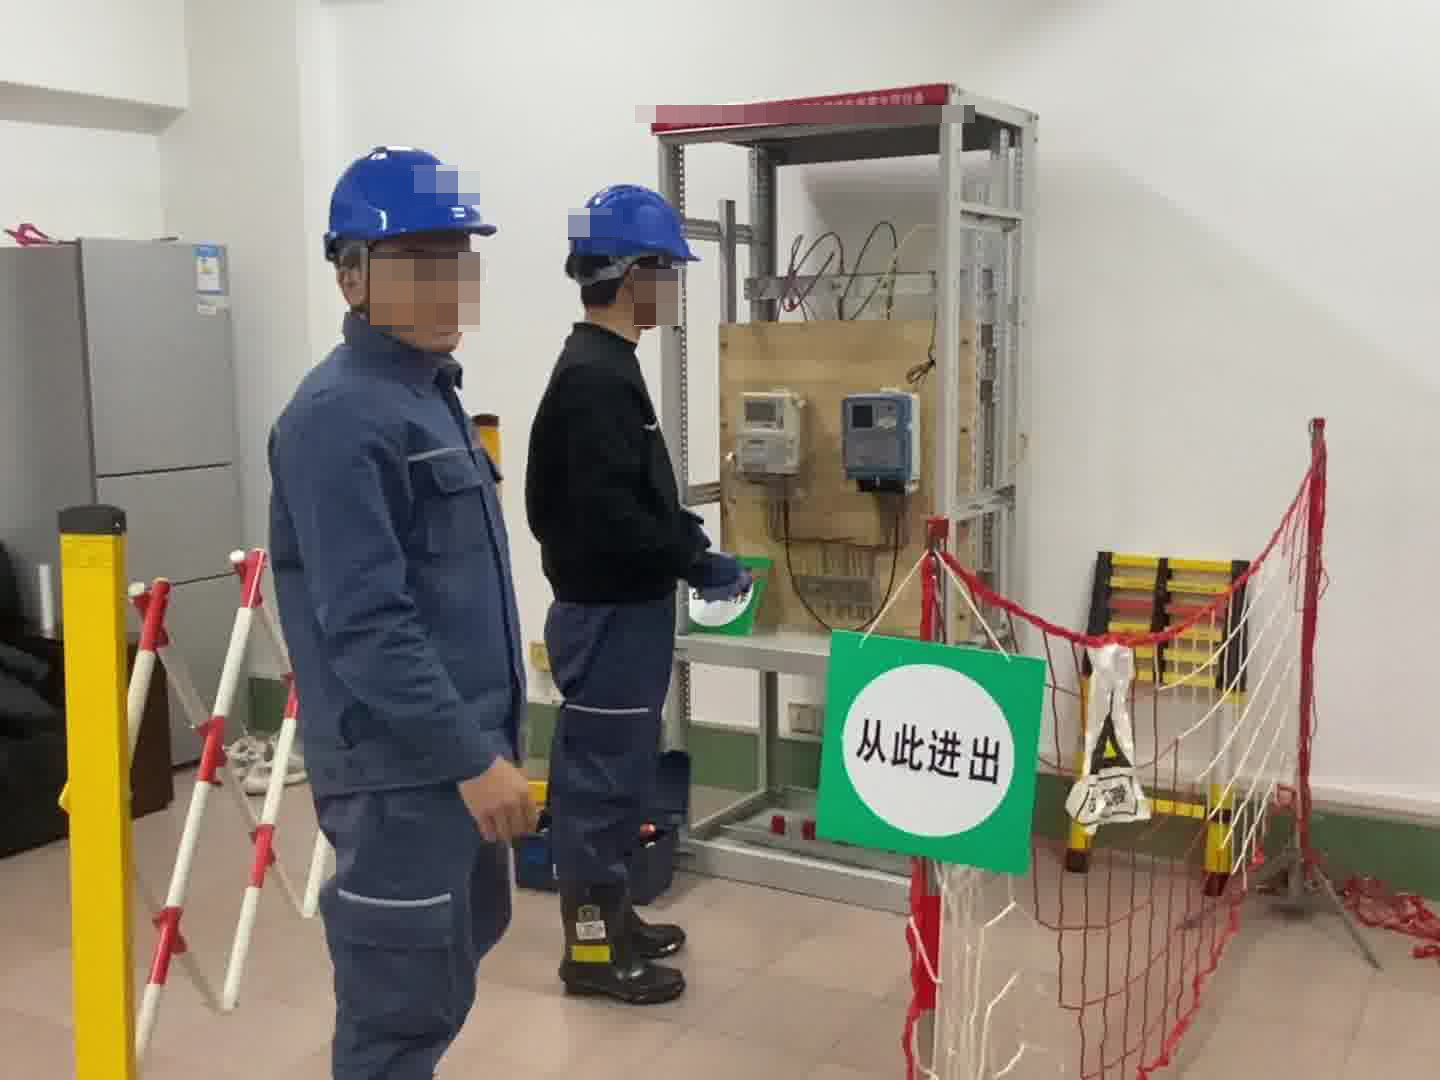downsuit: (306, 793, 517, 1080), (543, 593, 690, 874)
glove: (697, 544, 748, 608)
halt: (318, 145, 500, 347), (564, 183, 698, 337)
hand: (456, 759, 545, 850)
inear: (329, 235, 394, 331), (617, 254, 667, 328)
intosign: (806, 615, 1053, 882)
person: (249, 139, 537, 1080), (522, 174, 750, 1003)
shoe: (558, 858, 690, 1003)
upcloth: (521, 342, 742, 604)
upsuit: (269, 356, 519, 786)
worksign: (677, 546, 784, 639)
